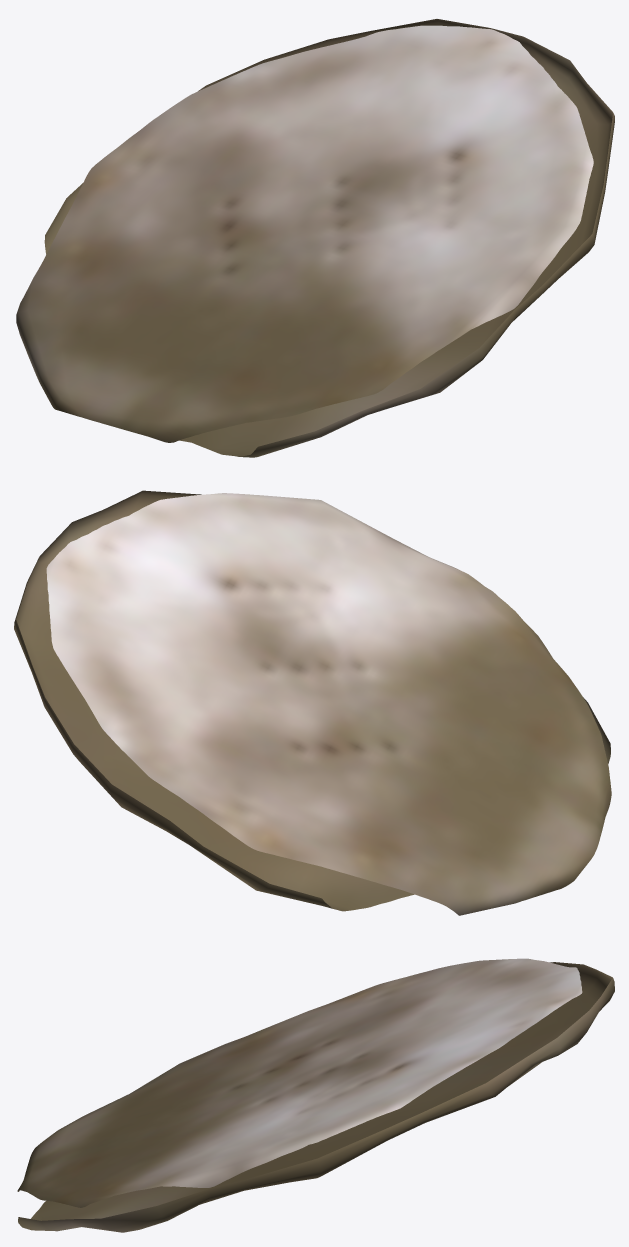
The model's file is AL_Coyotas_Static.fbx.
3 views of the same model, one above another, from view 1: azimuth 30°, elevation 25°; view 2: azimuth 150°, elevation 25°; view 3: azimuth 330°, elevation 25° (orthographic).
Parts seen in each view (by area): view 1: Circle; view 2: Circle; view 3: Circle.
Part boxes in pixels (box(x1,y1,x2,y2)): Circle: box(16, 19, 614, 457); Circle: box(14, 490, 611, 915); Circle: box(17, 958, 614, 1232).
Bounding box in the file's own units: 0.3091 × 0.1418 × 0.2886.
